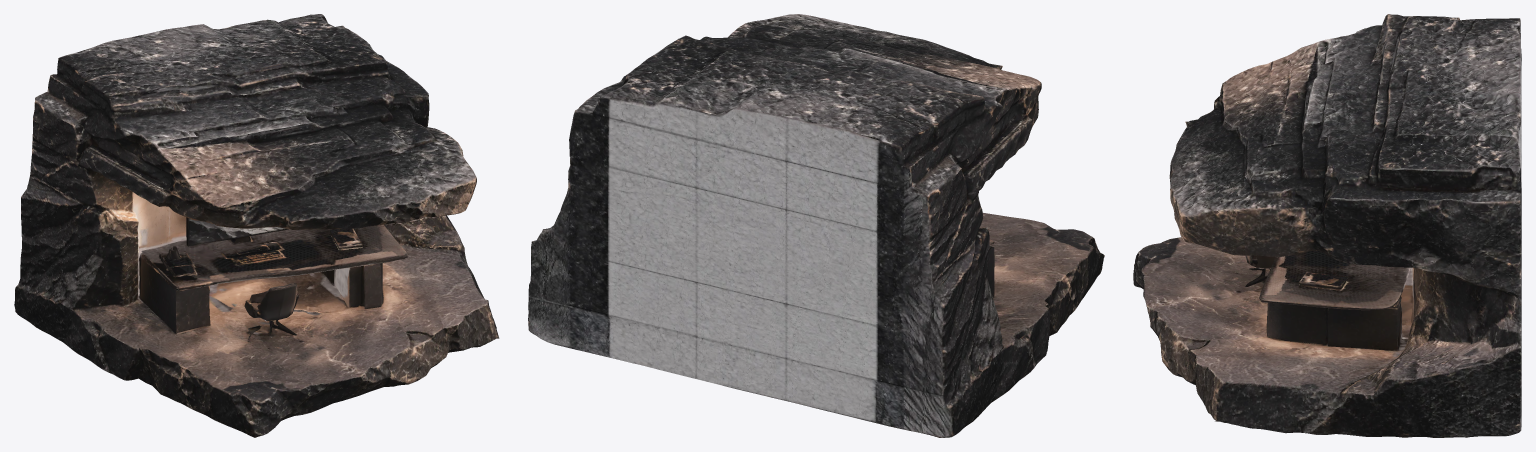
File: studio.glb
3 views of the same model, side by side, from view 1: azimuth 30°, elevation 25°; view 2: azimuth 150°, elevation 25°; view 3: azimuth 270°, elevation 25° (orthographic). The views are drawn at different scales.
Parts seen in each view (by area): view 1: Mesh0; view 2: Mesh0; view 3: Mesh0.
Part boxes in pixels (left/top/right/bottom): Mesh0: left=14, top=14, right=499, bottom=437; Mesh0: left=528, top=14, right=1104, bottom=437; Mesh0: left=1133, top=14, right=1521, bottom=437.
Size of the model in its own units: 1.89 by 1.21 by 1.63.
Materials: 1 (1 with a texture image).
